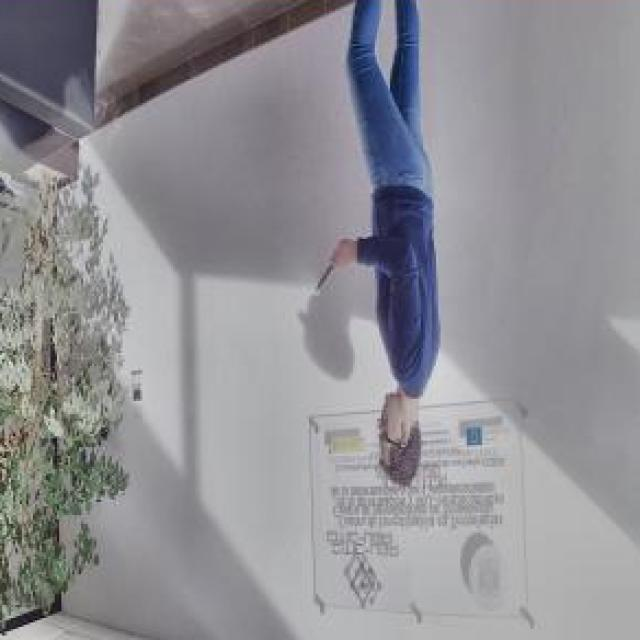knife: (314, 243, 344, 298)
